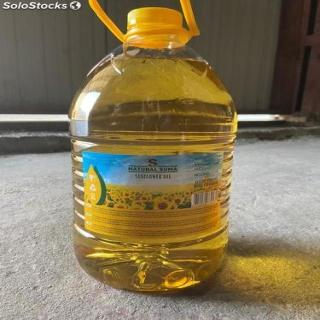Plastic-bottle: (68, 1, 244, 299)
